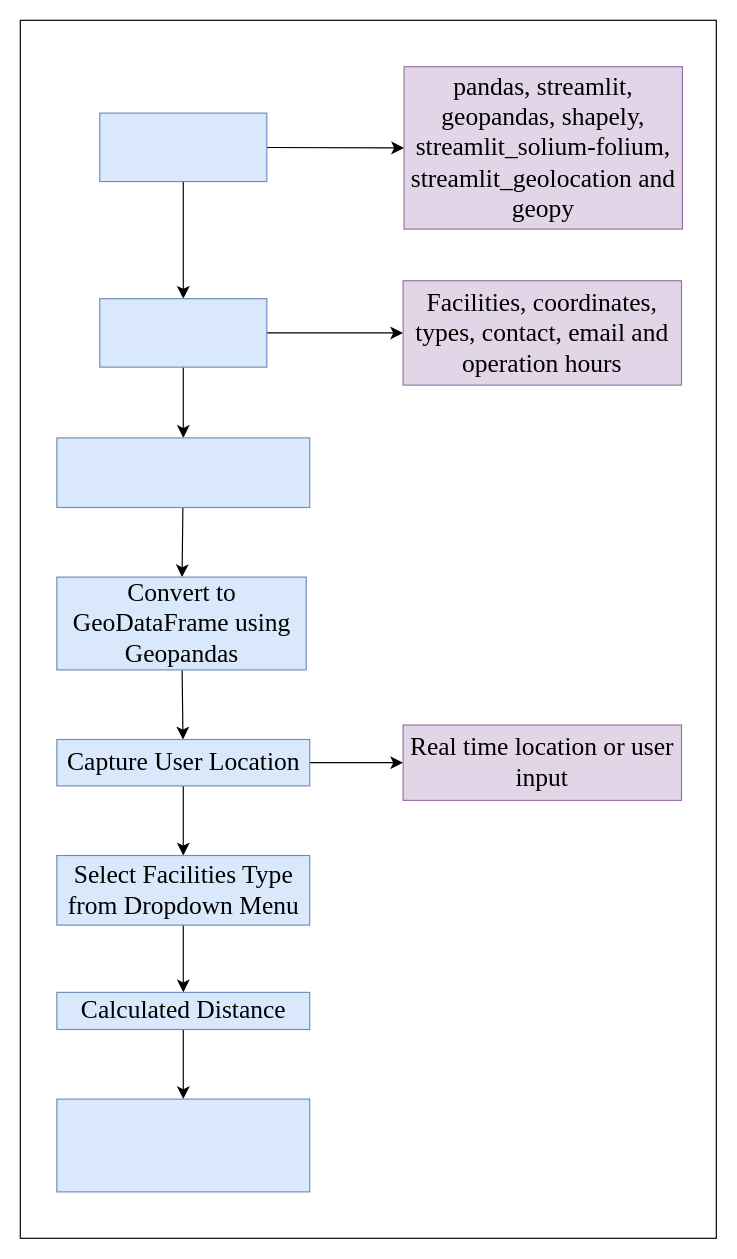
This 737x1259 diagram has some shape labels left out. Each missing label, with the box of its shape:
Clean and Standardize Data with Pandas: (56, 437, 310, 507)
Display 3 Nearest Facilities with Map and Info Box: (56, 1098, 310, 1192)
Install Python Packages: (99, 112, 267, 182)
Prepare and Load Dataset: (99, 298, 267, 367)
